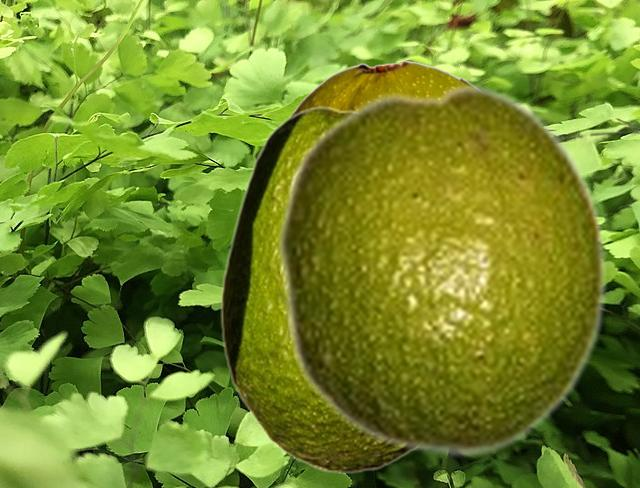avocado: (275, 81, 609, 459), (220, 105, 414, 473), (288, 60, 472, 115)
